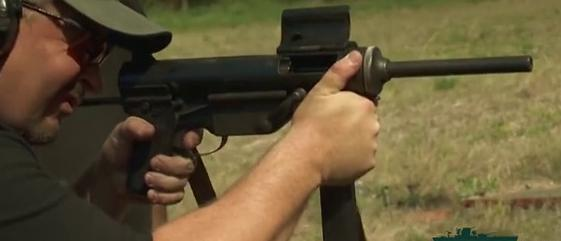gun: (1, 1, 561, 241)
